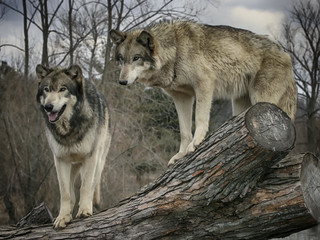wolf: (113, 27, 304, 144), (38, 61, 108, 214)
